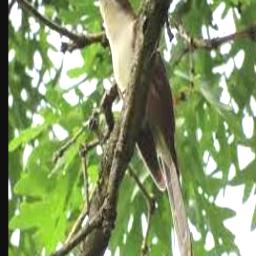Cuckoo: (86, 0, 195, 256)
